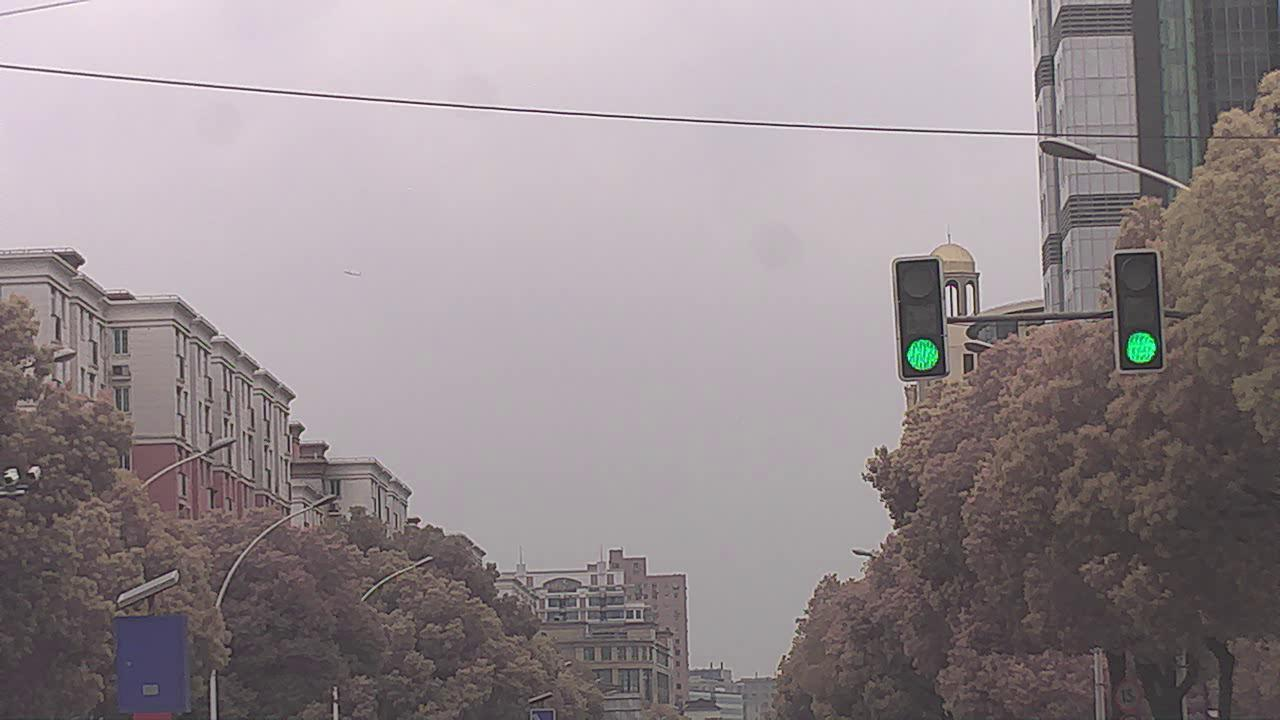traffic_light: (892, 261, 954, 382), (1114, 256, 1168, 372)
